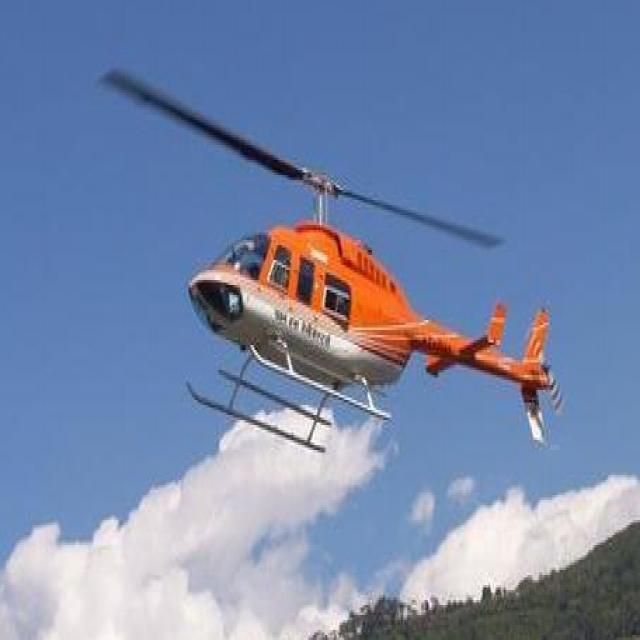helicopter: (91, 68, 540, 486)
